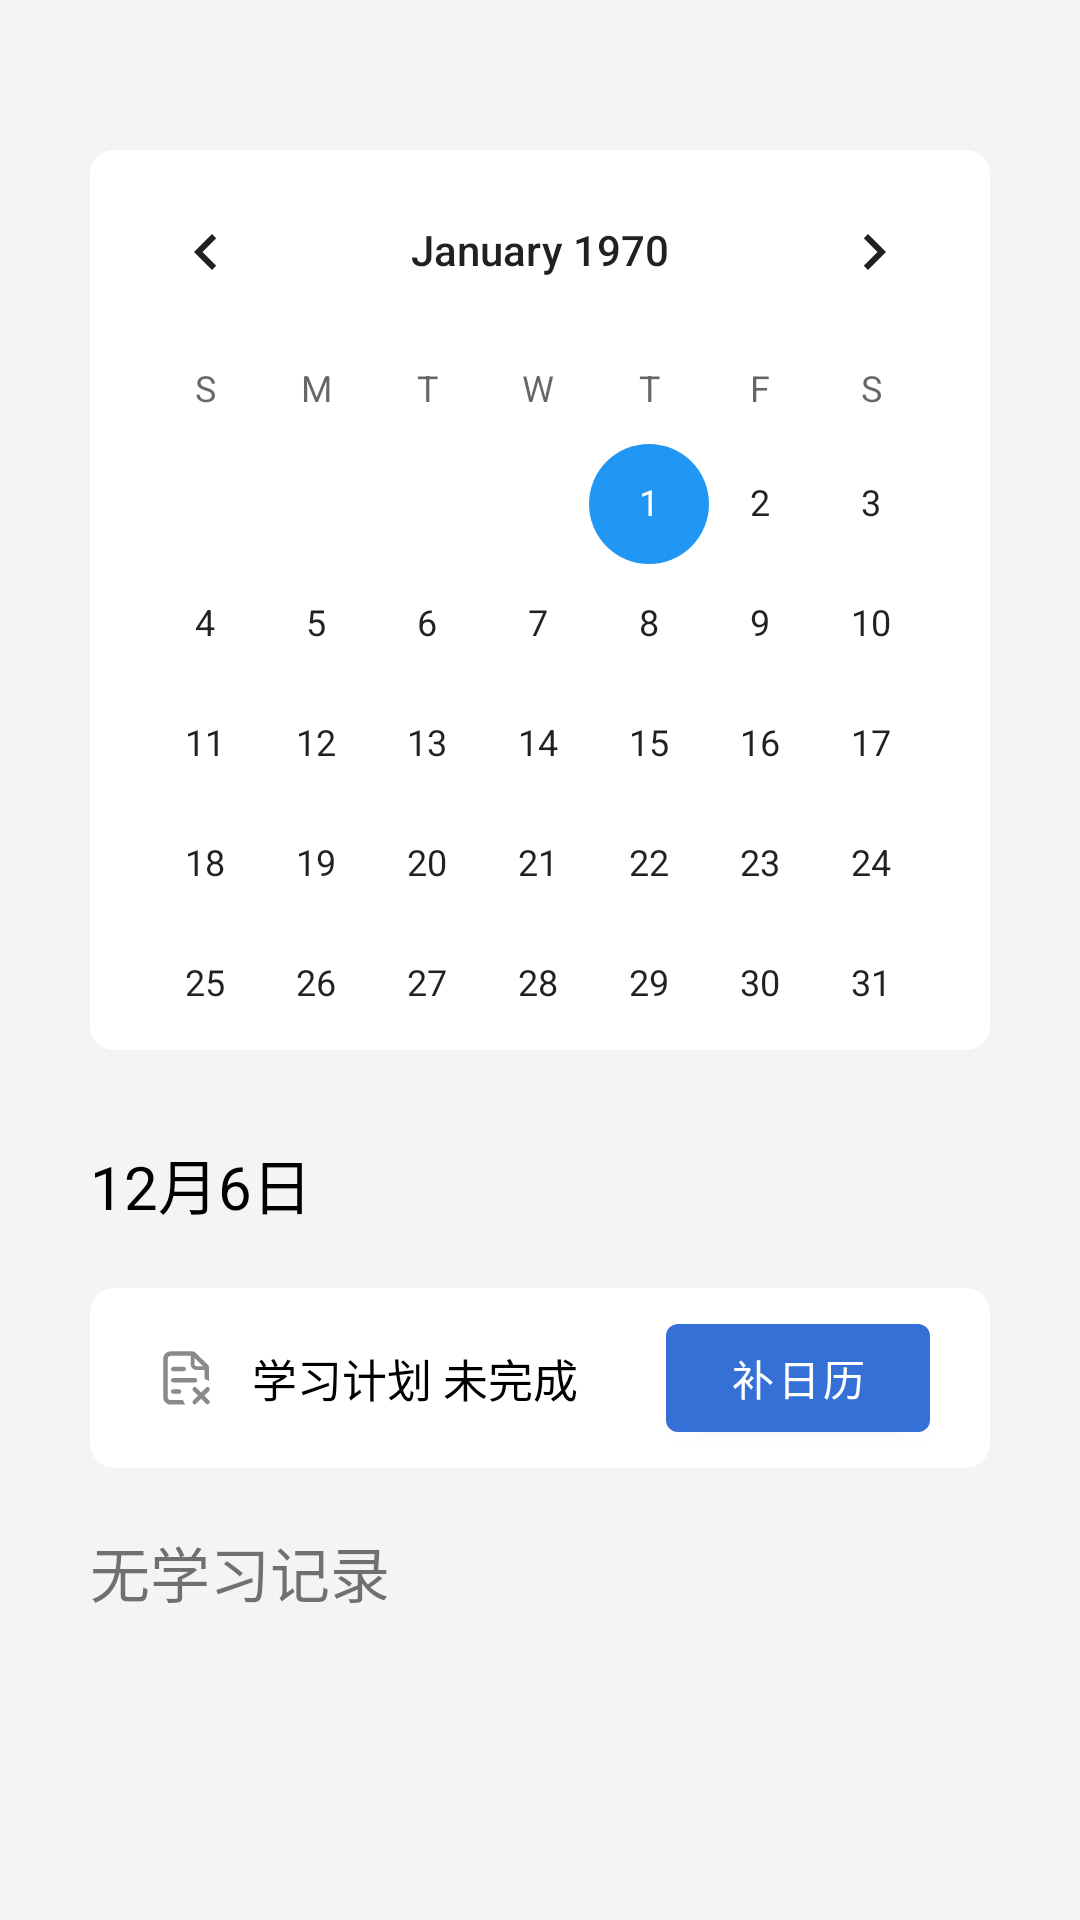

Where icons sit on this 1080 x 1920 app screen, as BBox(x1, y1, x2, y2):
signin unfinished: BBox(163, 1351, 210, 1405)
